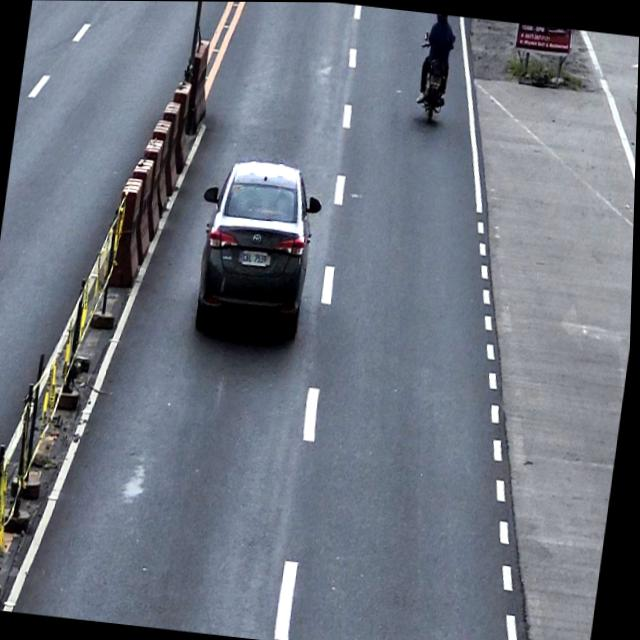Car: (187, 154, 327, 339)
License-Plate: (239, 246, 273, 268), (428, 73, 442, 86)
Motorcycle: (412, 30, 455, 122)
